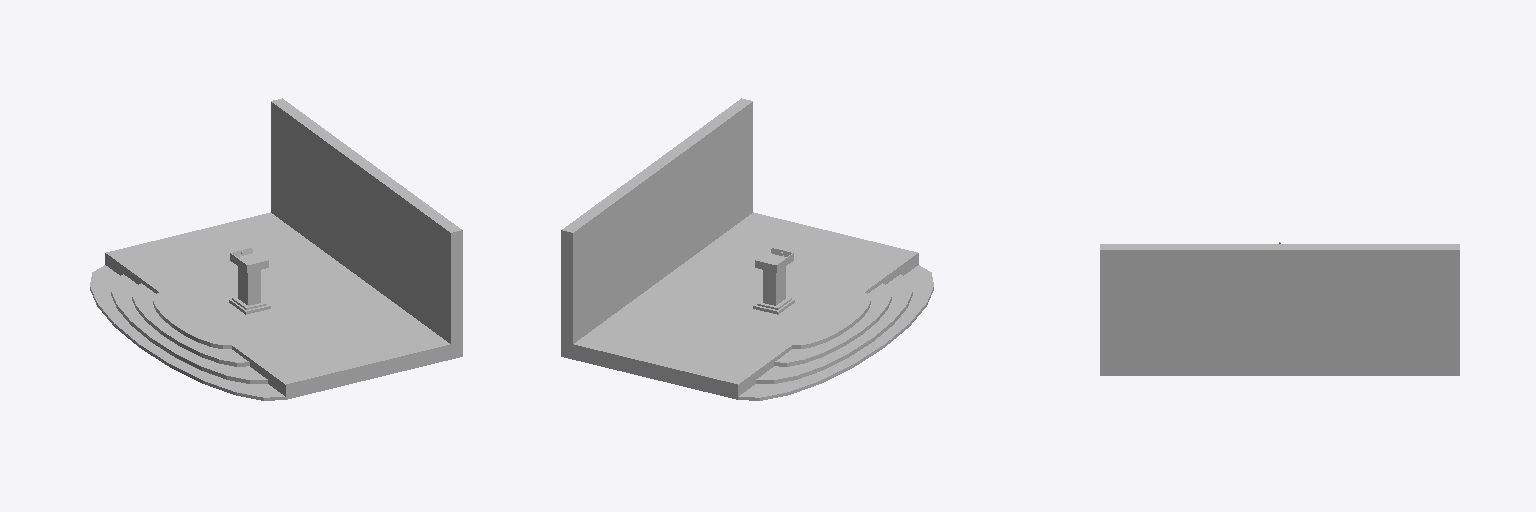
Rendered from stage.obj.
The picture shows the model from 3 angles: view 1: azimuth 30°, elevation 25°; view 2: azimuth 150°, elevation 25°; view 3: azimuth 270°, elevation 25°; orthographic projection.
Visible parts, largest first — view 1: pSphere2; view 2: pSphere2; view 3: pSphere2.
Part boxes in pixels (x1,y1,x2,y2): pSphere2: (90,98,462,400); pSphere2: (561,98,933,400); pSphere2: (1100,242,1459,375).
Size of the model in its own units: 12.7 by 6.59 by 17.